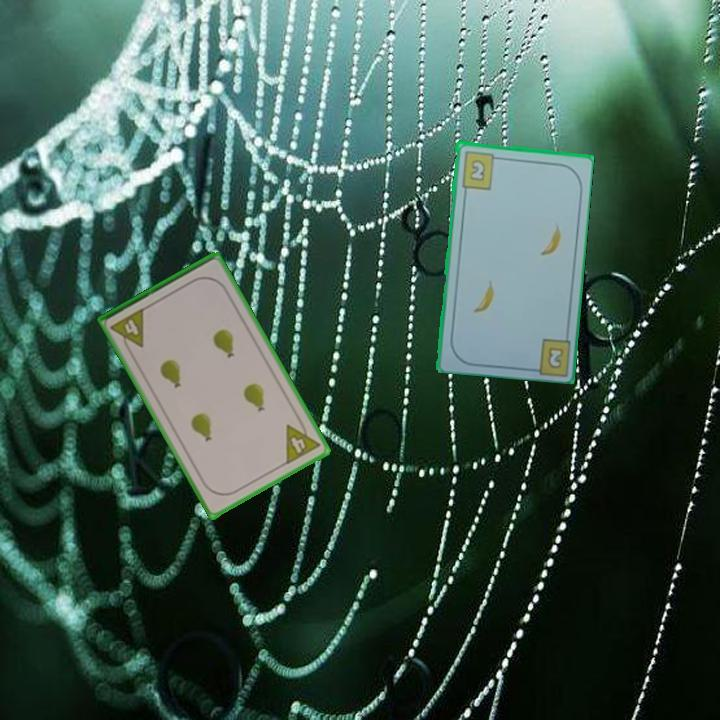2b: (458, 147, 503, 191), (544, 343, 566, 371)
4p: (282, 415, 323, 467), (107, 304, 148, 356)
